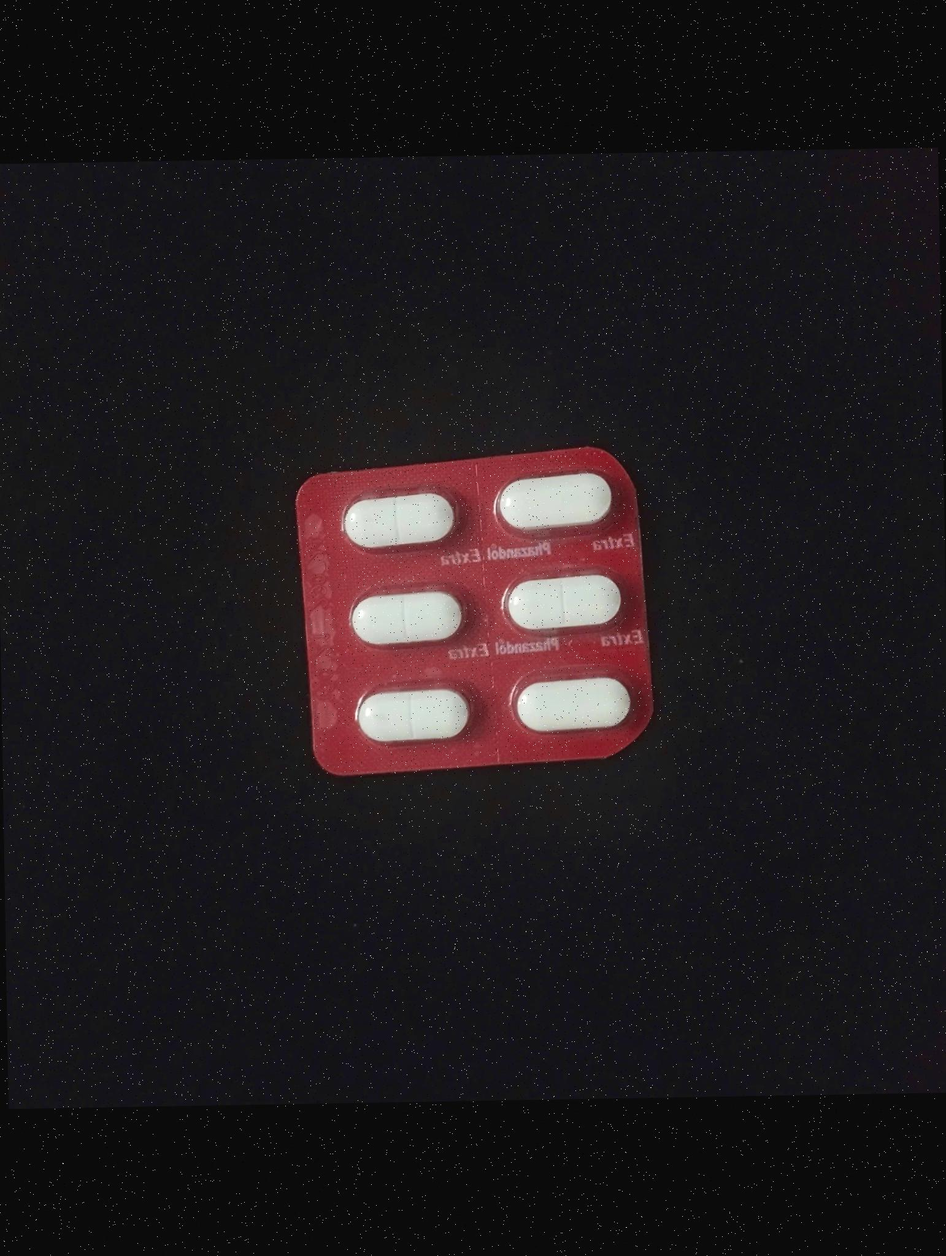Full: (340, 582, 481, 656), (491, 472, 625, 536), (502, 570, 628, 638), (352, 680, 479, 746), (344, 484, 464, 550), (518, 673, 634, 735)
